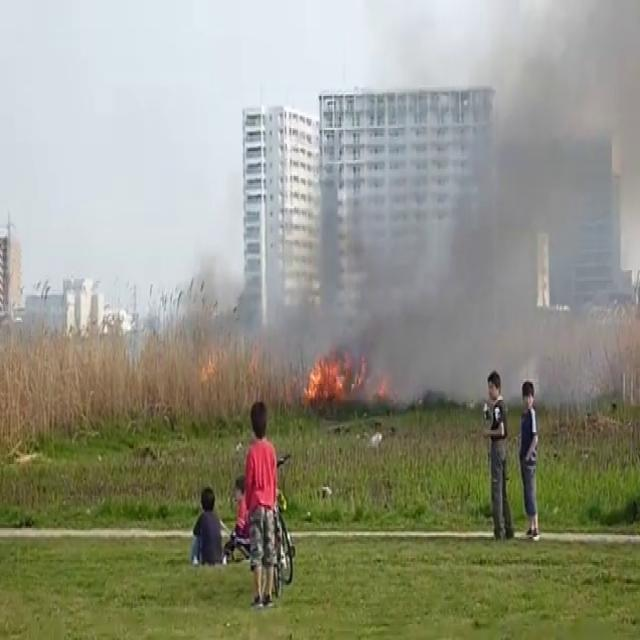Fire: (300, 335, 358, 408)
Smoke: (326, 0, 640, 404)
